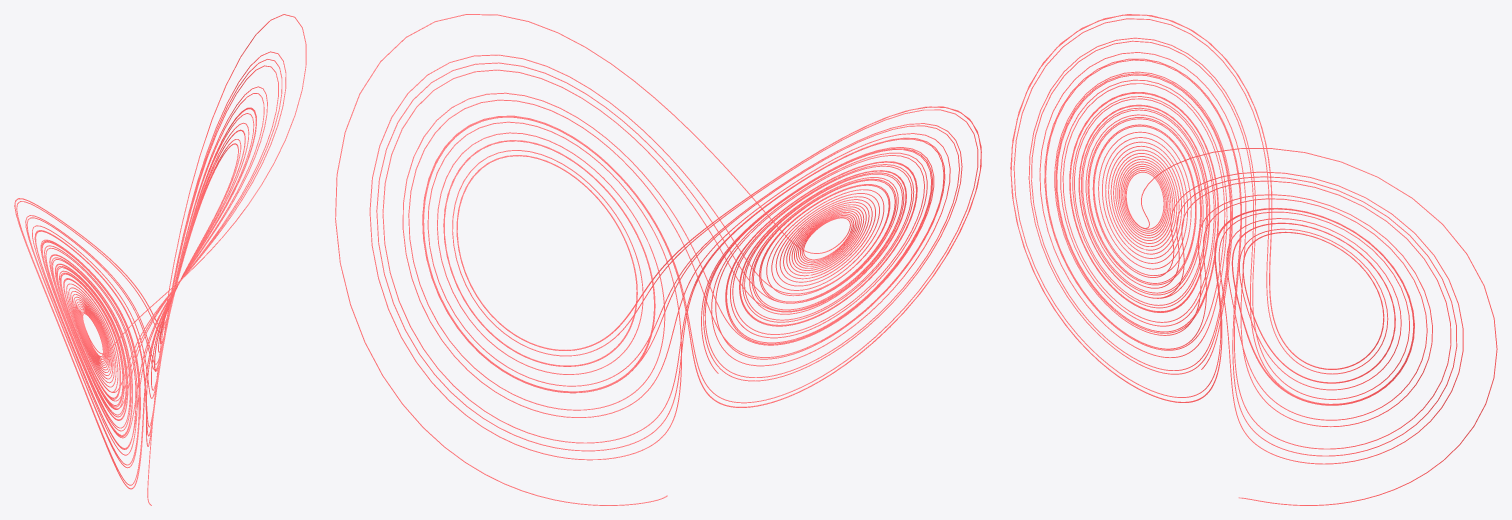
File: lorenz.glb
3 renders of one model, left to right at view 1: azimuth 30°, elevation 25°; view 2: azimuth 150°, elevation 25°; view 3: azimuth 270°, elevation 25°, orthographic. The views are drawn at different scales.
Parts seen in each view (by area): view 1: Data; view 2: Data; view 3: Data.
Boxes of the visible parts, x1,y1,x2,y2 form: Data: (14,14,306,505); Data: (335,14,981,505); Data: (1010,14,1497,505).
Bounding box in the file's own units: 0.2004 × 0.2004 × 0.2004.
